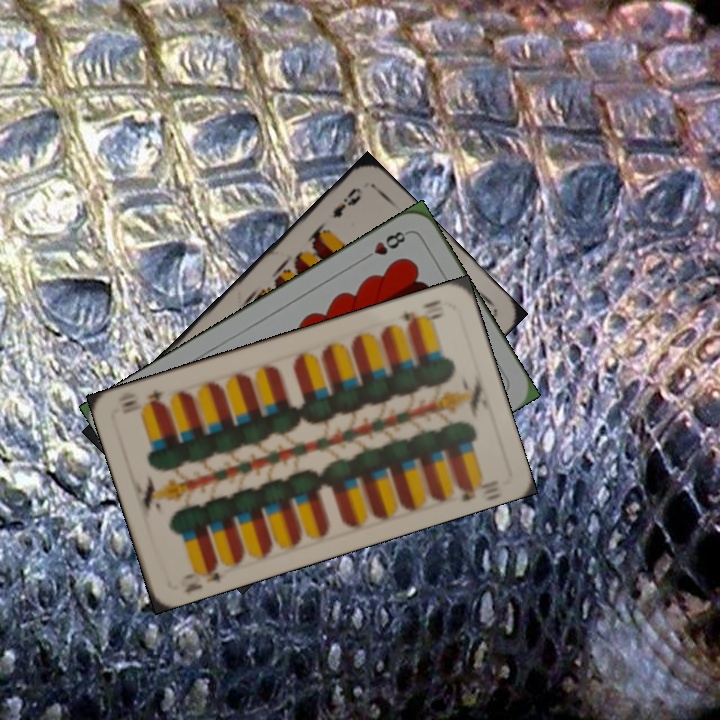E10: (175, 557, 223, 595), (398, 295, 448, 331)
E9: (329, 183, 364, 221)
H8: (358, 227, 412, 264)
